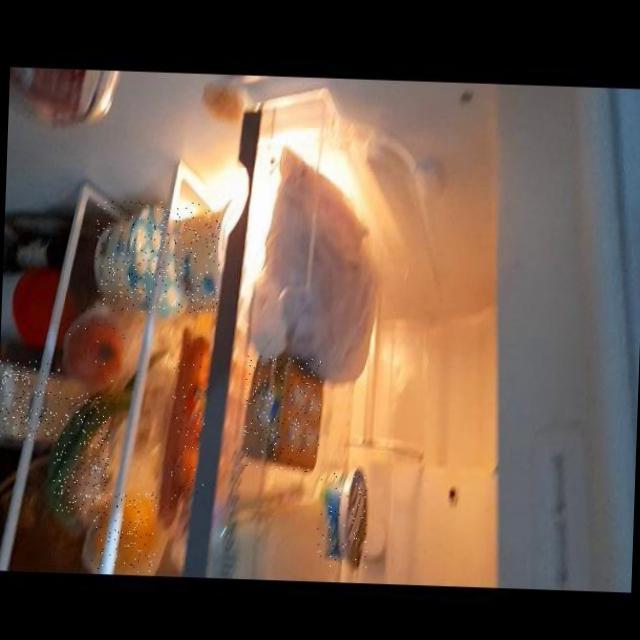Mantequilla: (241, 355, 321, 472)
Yogur: (92, 199, 170, 313), (170, 202, 220, 314), (315, 468, 368, 568)
Zanahoria: (167, 333, 207, 509)
